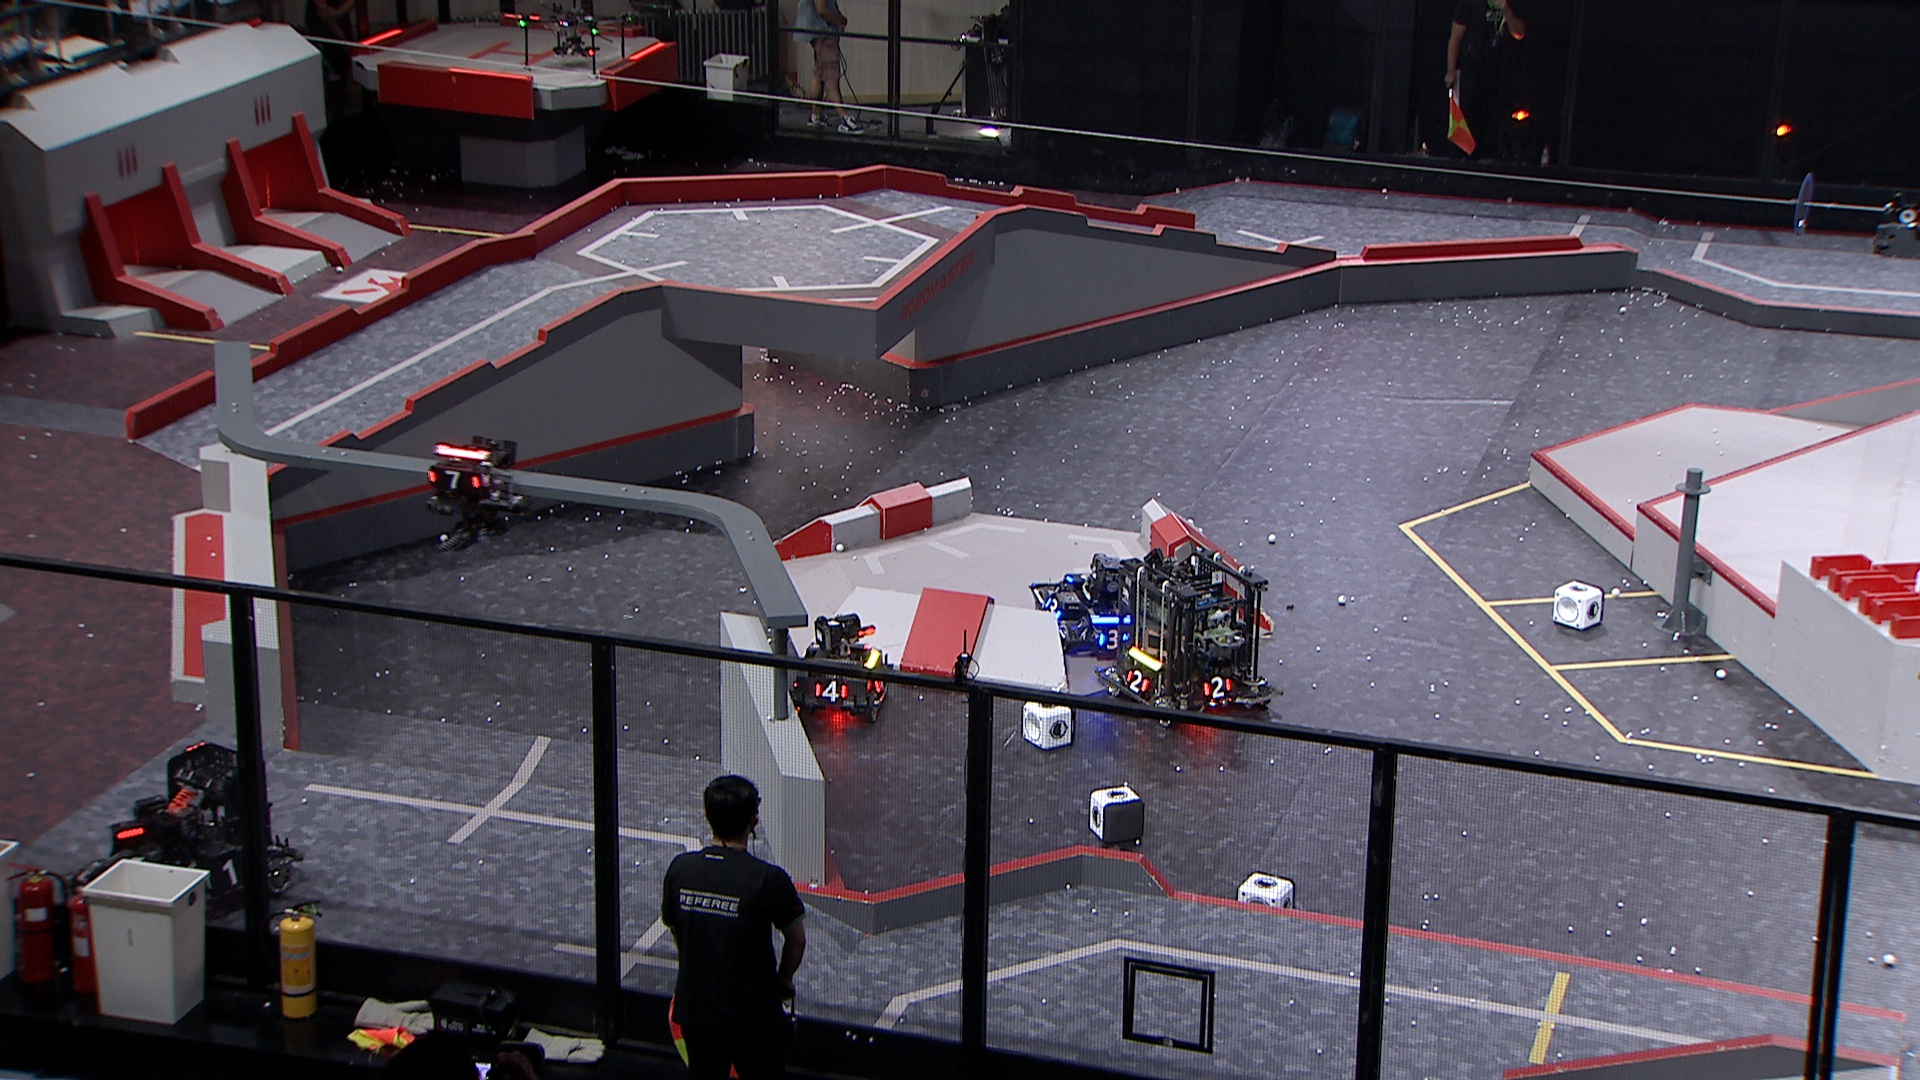armor: (425, 467, 483, 491), (202, 858, 244, 887), (814, 679, 851, 705), (1201, 676, 1236, 699), (1126, 669, 1153, 698), (1097, 628, 1127, 651), (1043, 597, 1063, 622)
car: (69, 738, 305, 926), (1096, 546, 1282, 727), (1029, 551, 1167, 659), (787, 613, 889, 723)
watcher: (425, 436, 526, 553)
